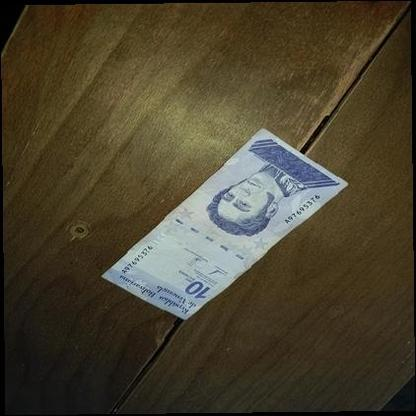vef_front: (100, 128, 348, 321)
